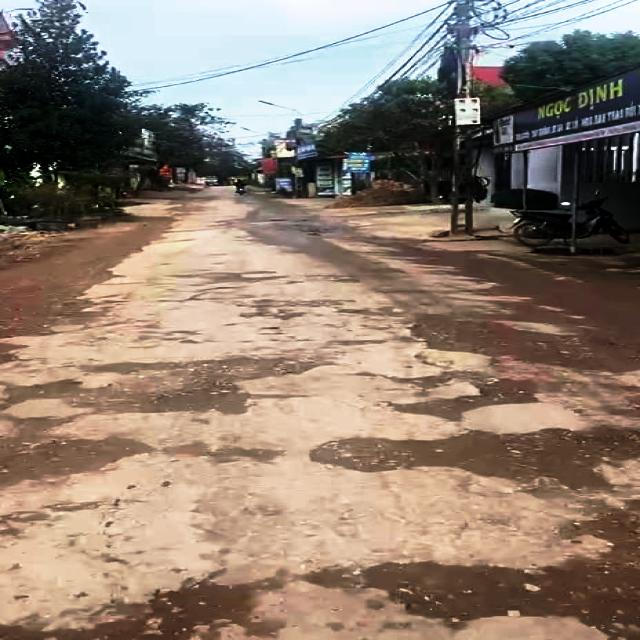pothole: (302, 559, 640, 640), (0, 353, 328, 417), (299, 427, 640, 488), (394, 312, 640, 374), (19, 579, 264, 640), (0, 414, 164, 492), (367, 365, 541, 424), (553, 499, 640, 576), (0, 295, 98, 340), (237, 298, 345, 322)
